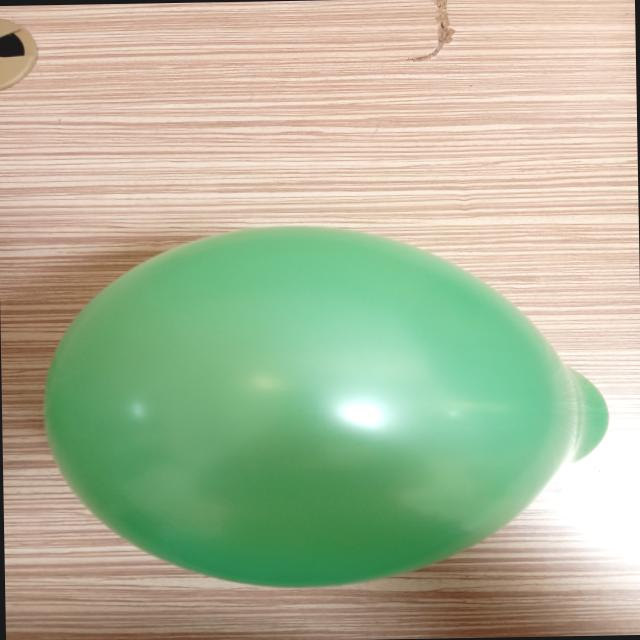balloon: (44, 227, 608, 586)
